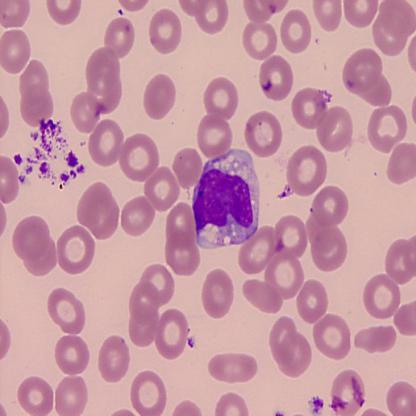Monocyte: (190, 146, 261, 252)
